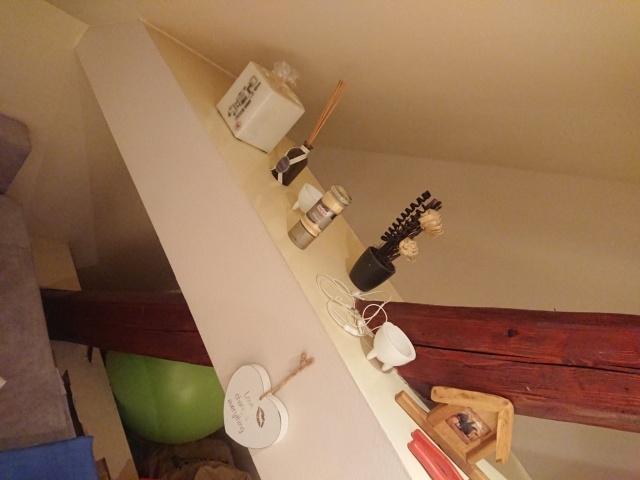Kotanyi Garlic Granules 70g: (285, 181, 354, 252)
